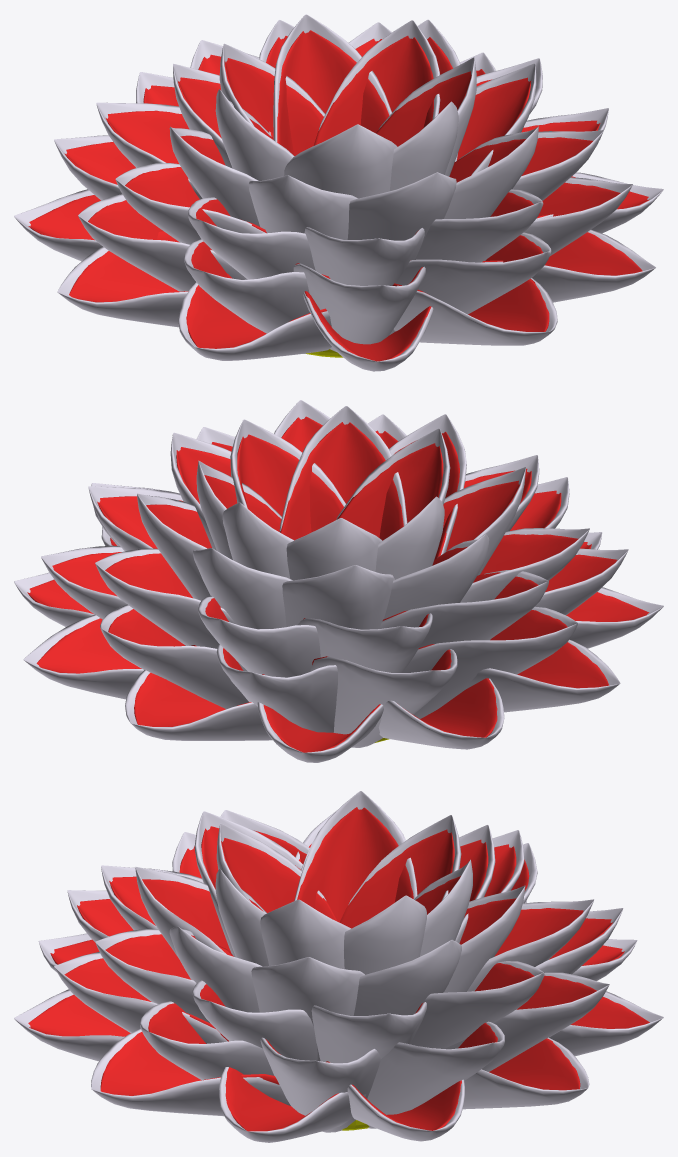
Rendered from flower-2-1.fbx.
3 renders of one model, top to bottom at view 1: azimuth 30°, elevation 25°; view 2: azimuth 150°, elevation 25°; view 3: azimuth 270°, elevation 25°, orthographic.
Visible parts, largest first — view 1: asd1.001; view 2: asd1.001; view 3: asd1.001.
Part boxes in pixels (left/top/right/bottom): asd1.001: left=14, top=14, right=663, bottom=371; asd1.001: left=14, top=400, right=663, bottom=762; asd1.001: left=14, top=791, right=663, bottom=1142.
Size of the model in its own units: 140 by 62.97 by 141.
